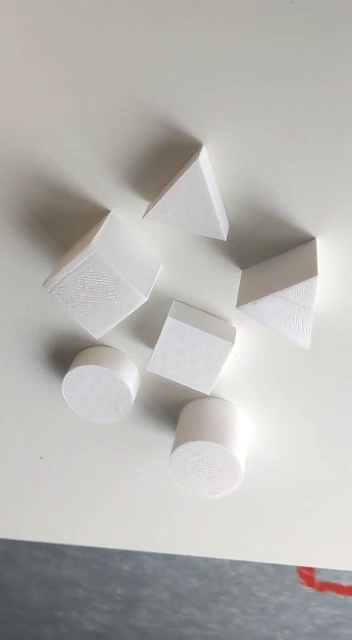Clyinder_short: (58, 342, 139, 425)
Cube: (42, 210, 163, 350)
Cube_short: (148, 296, 236, 398)
Cylinder: (167, 394, 250, 499)
Triangle: (232, 235, 318, 356)
Triangle_short: (140, 134, 234, 252)
